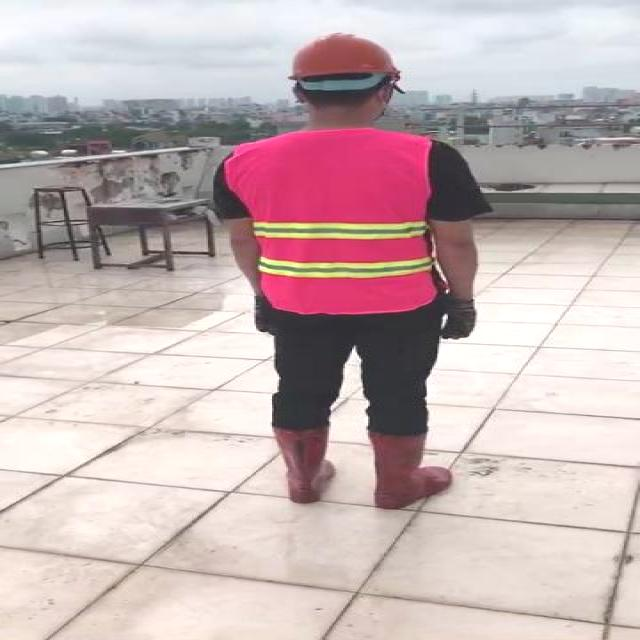boots: (368, 432, 453, 511), (268, 425, 336, 505)
hand_glove: (436, 295, 480, 340), (254, 299, 279, 335)
head_helmet: (282, 30, 404, 80)
person: (210, 29, 492, 526)
vest: (229, 129, 434, 313)
